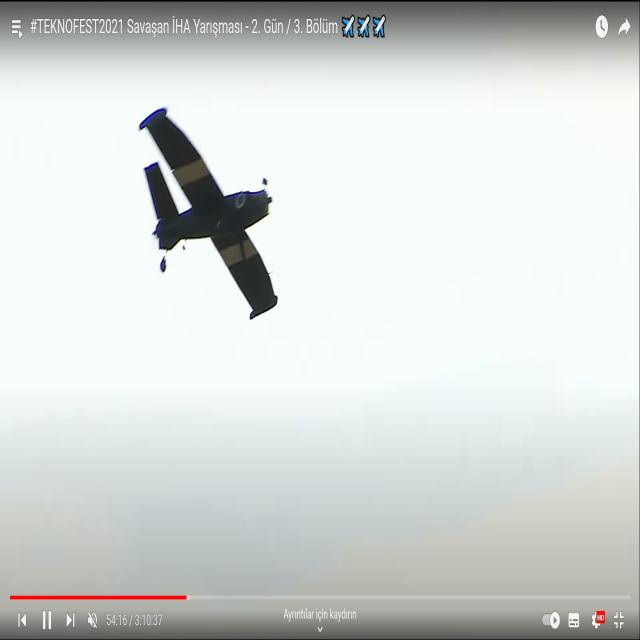iha: (143, 108, 276, 323)
